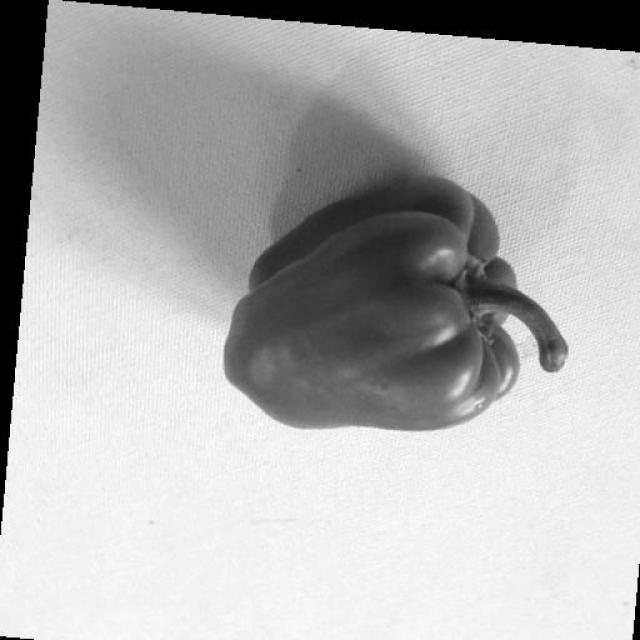Fresh_Capsicum: (227, 149, 596, 475)
